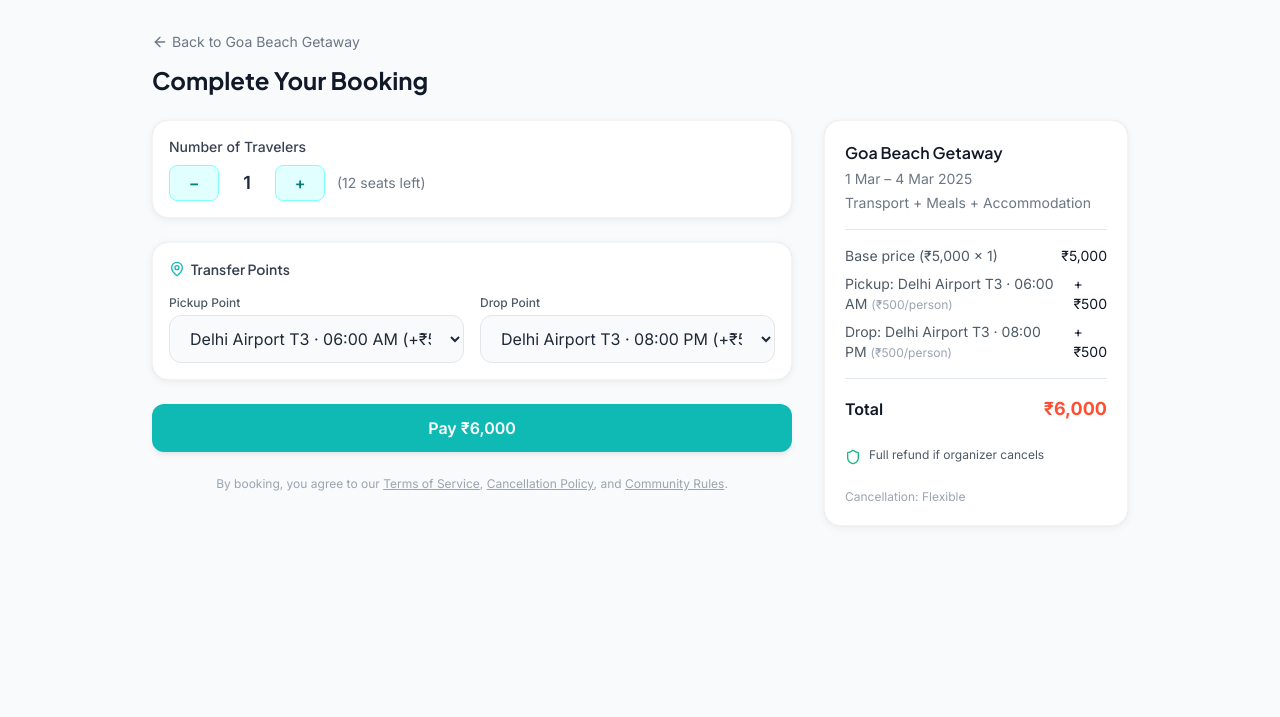
Scenario: BookingPage › should show success screen after payment verification
Click the button "Pay ₹6,000" at (472, 428), box [152,404,792,452]
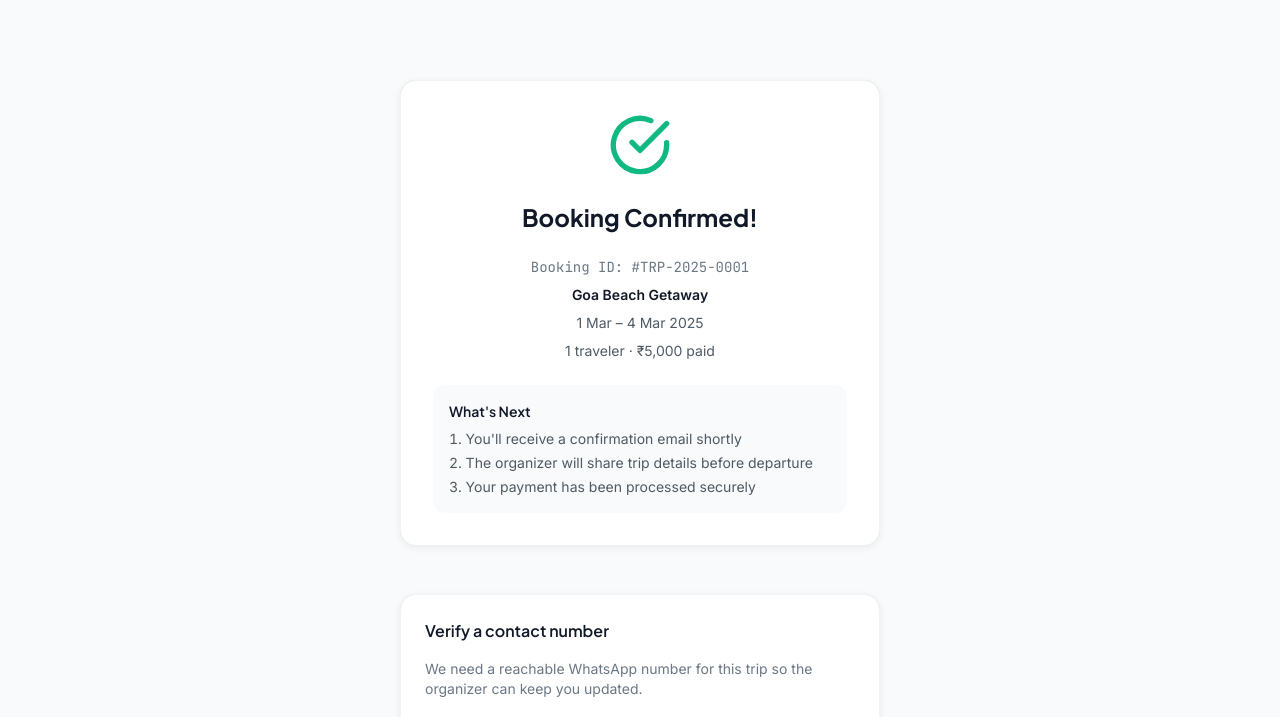
Expected: the heading "Booking Confirmed!" is shown, [522,202,758,232]
Expected: the text "Booking ID: #TRP-2025-0001" is shown, [531,258,749,276]
